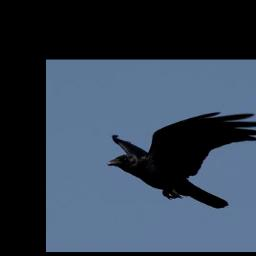Crow: (105, 110, 256, 209)
